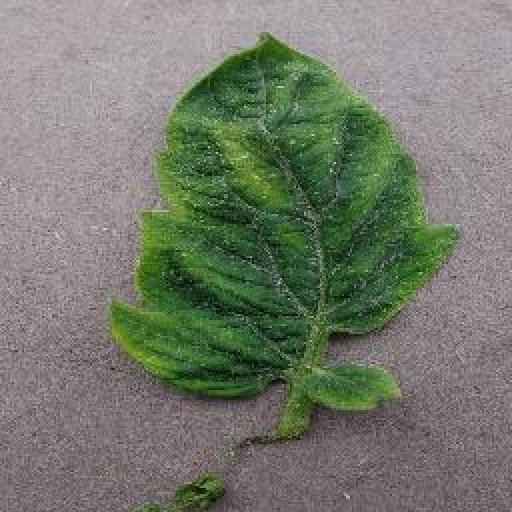disease_tomato: (107, 32, 463, 401)
